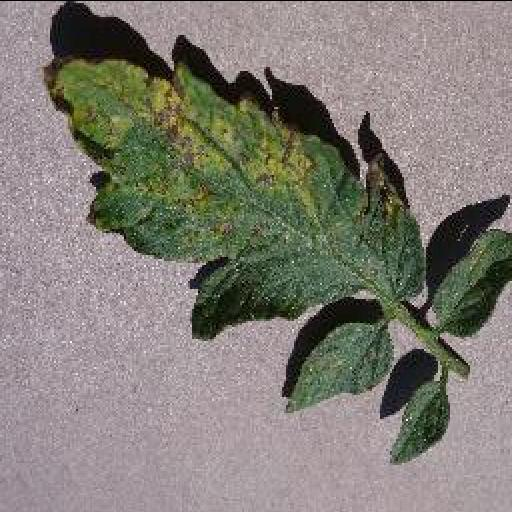disease_tomato: (42, 58, 424, 336)
